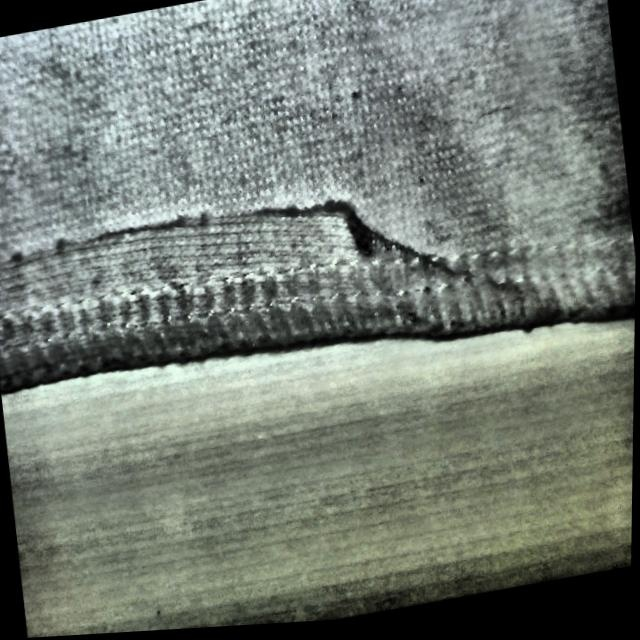seam: (0, 125, 433, 414)
